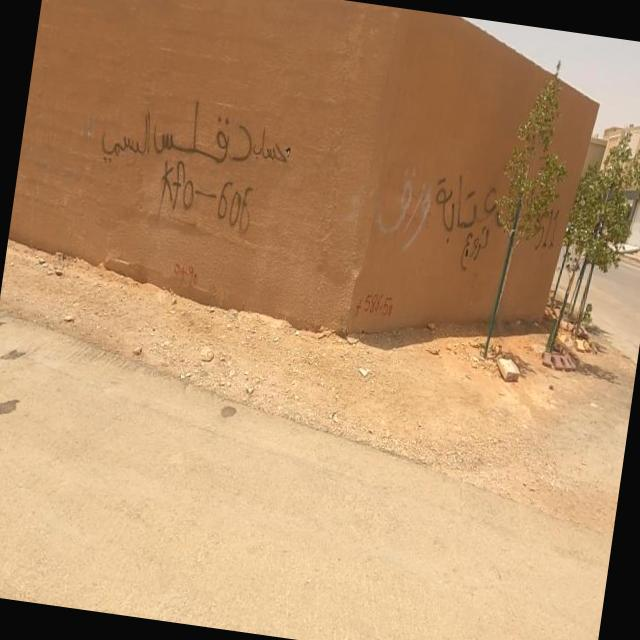debris: (2, 0, 434, 335), (331, 101, 640, 345)
